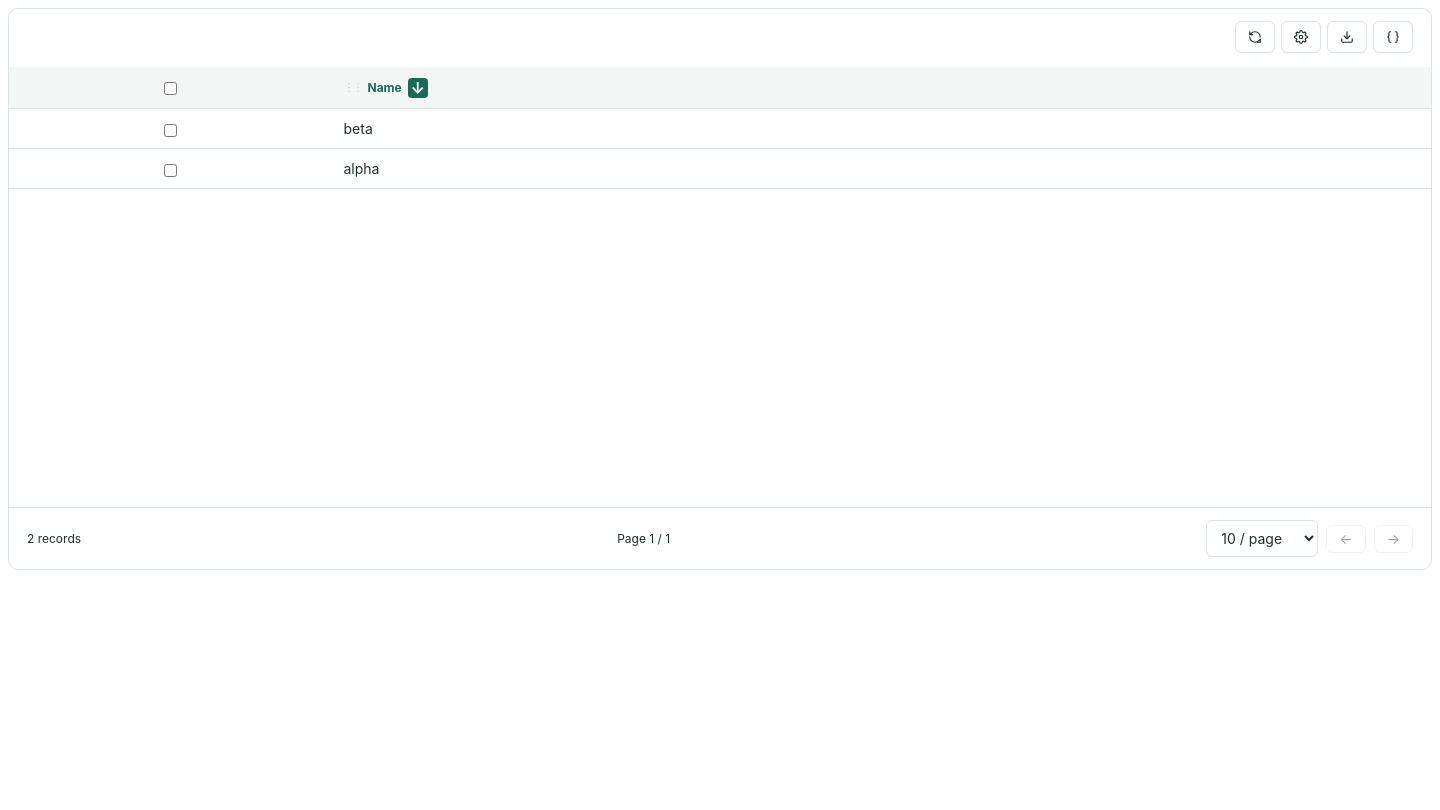
it: controlled settings still save explicitly created named presets
Click the button "Settings" at [1301, 37], box [1281,21,1321,53]
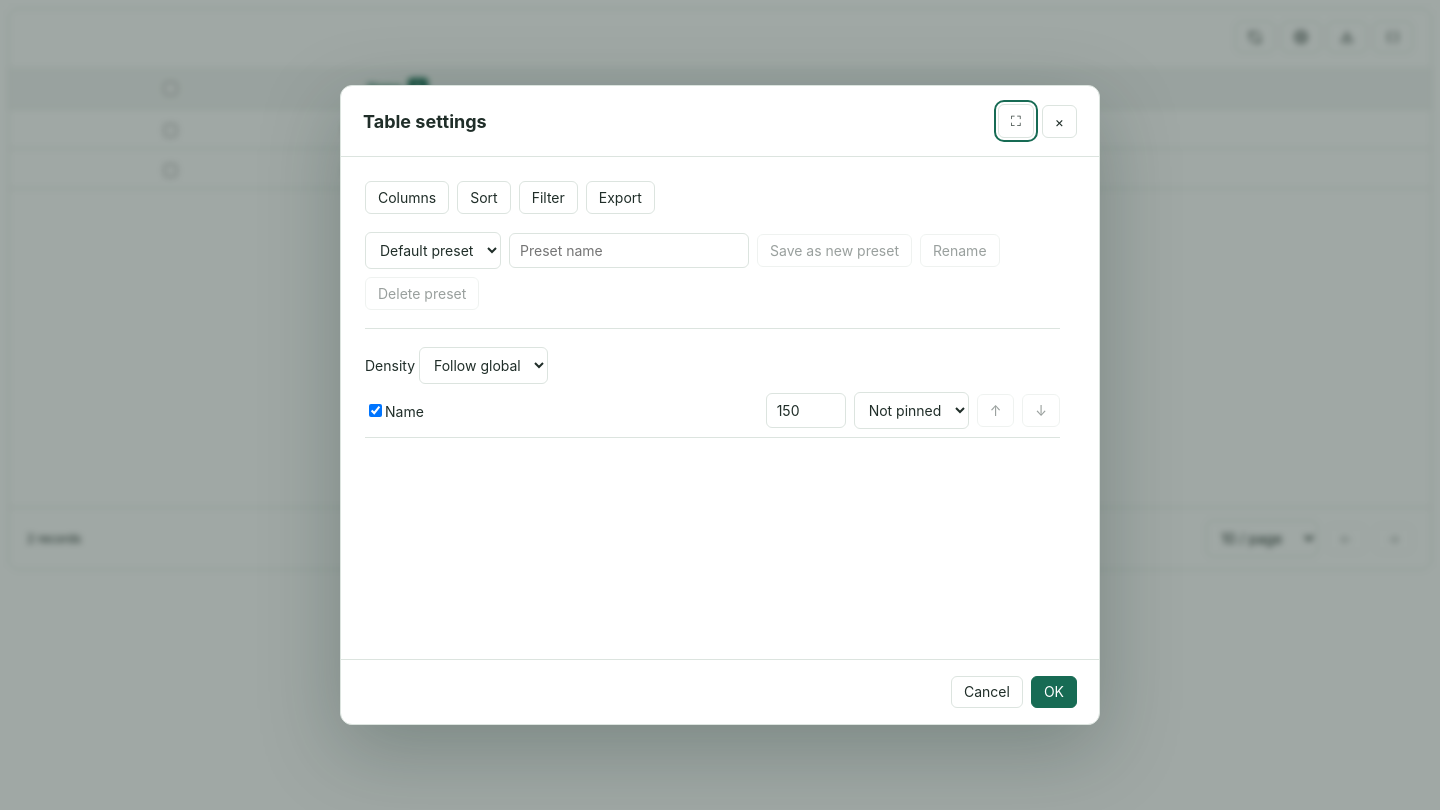
Click the button "Sort" at [484, 198], box [457,181,511,214]
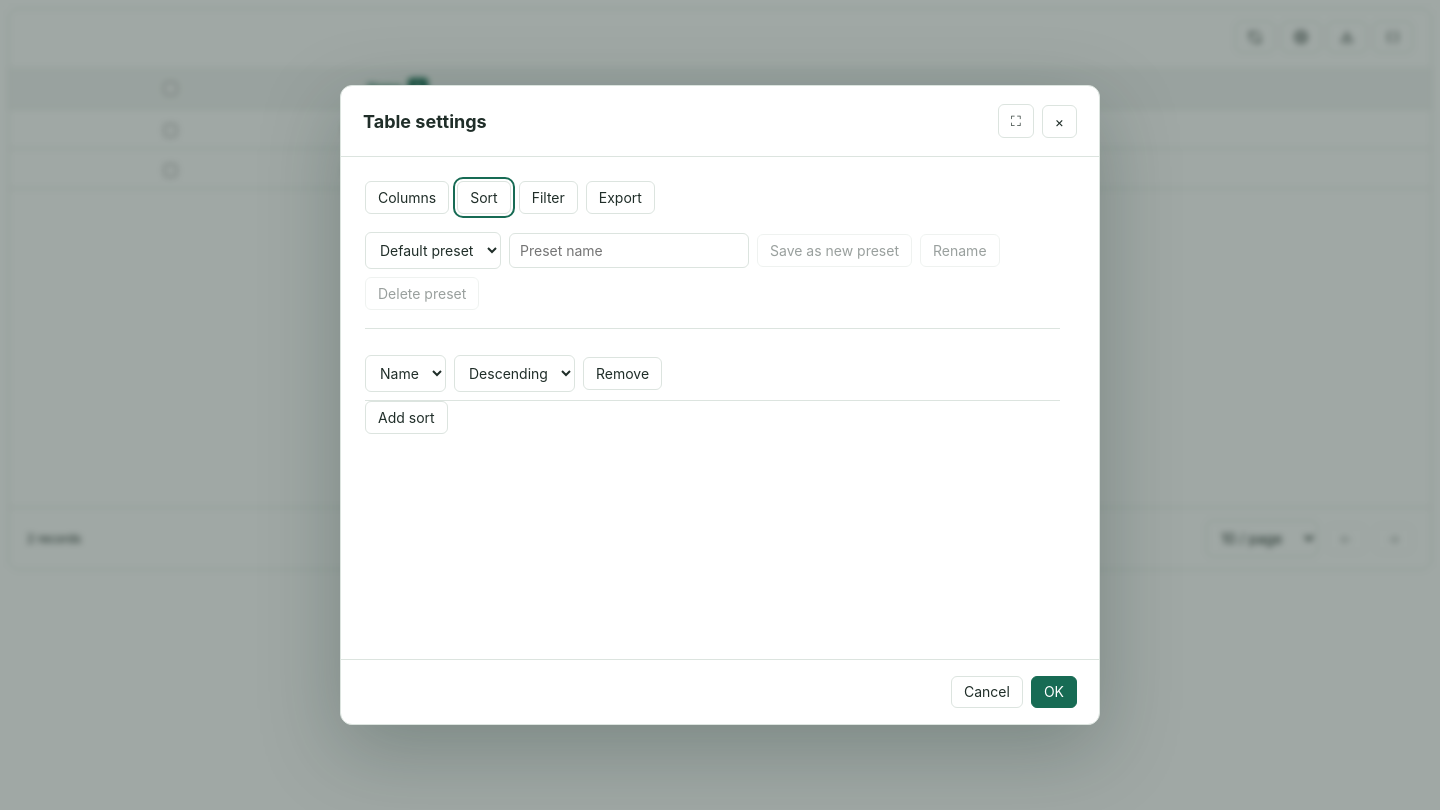
Type "Review preset" into the field labelled "Preset name" at [629, 250], box [509,233,749,268]
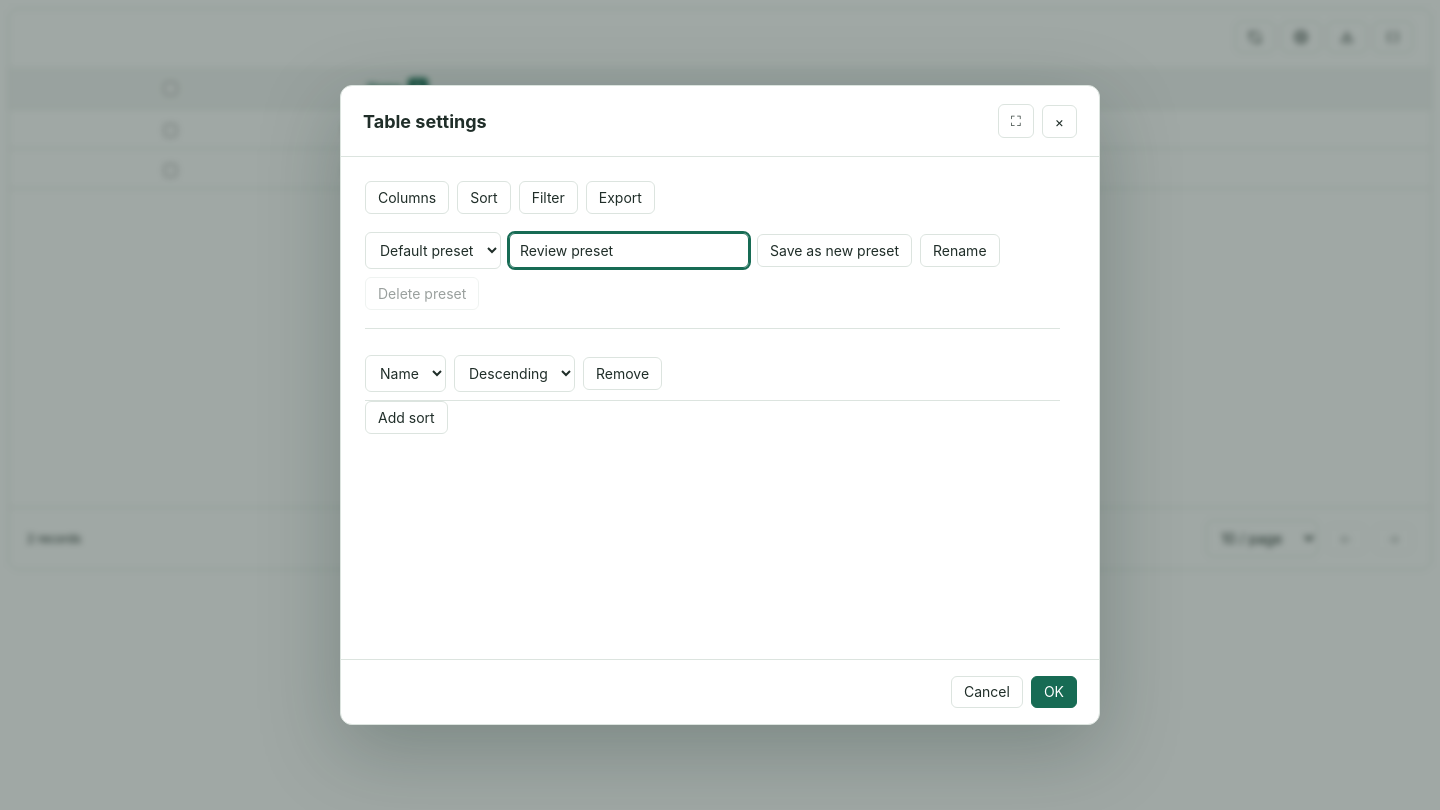
Click the button "Save as new preset" at [834, 250], box [757,234,912,267]
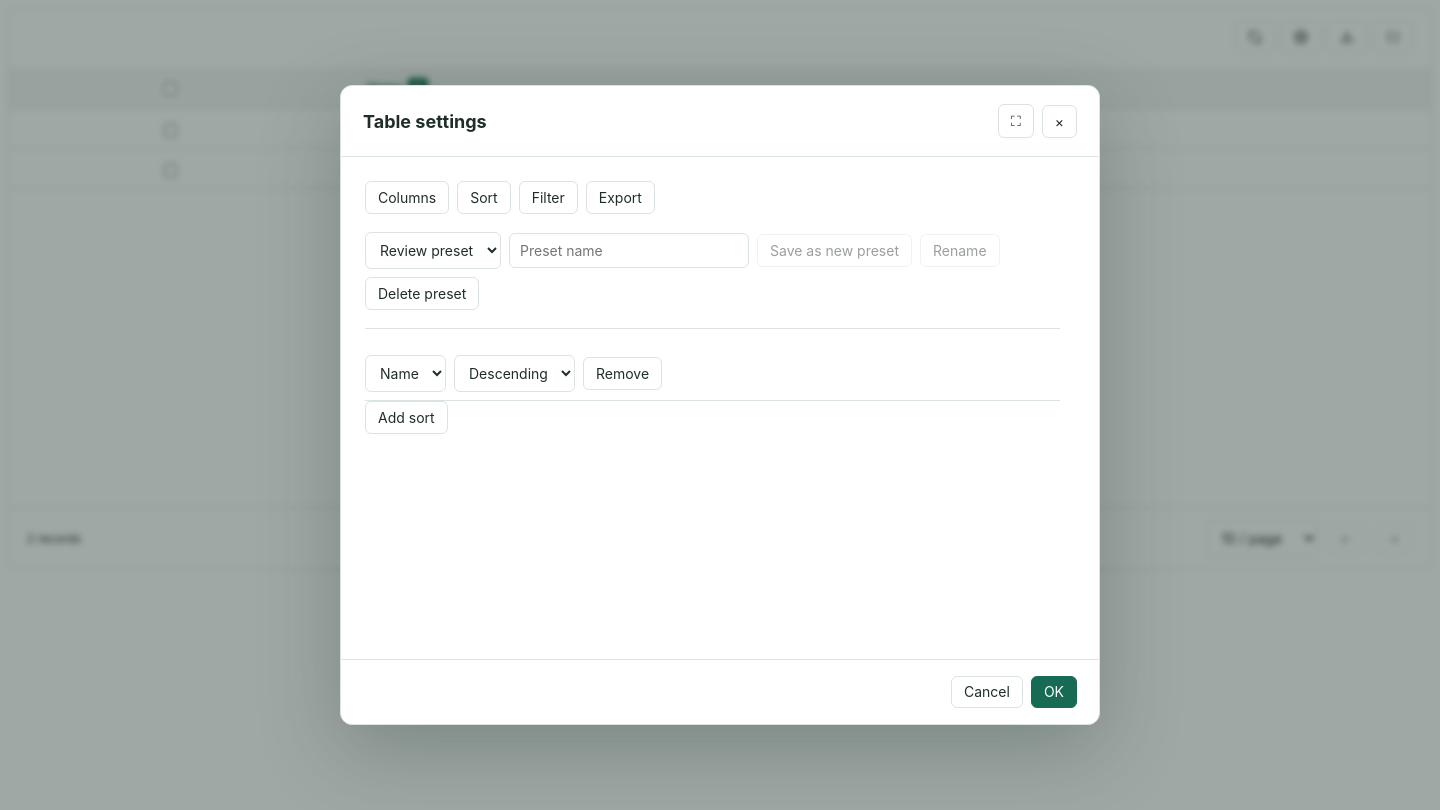
Click the button with test id "rac-ok" at [1054, 692], box [1031,676,1077,708]
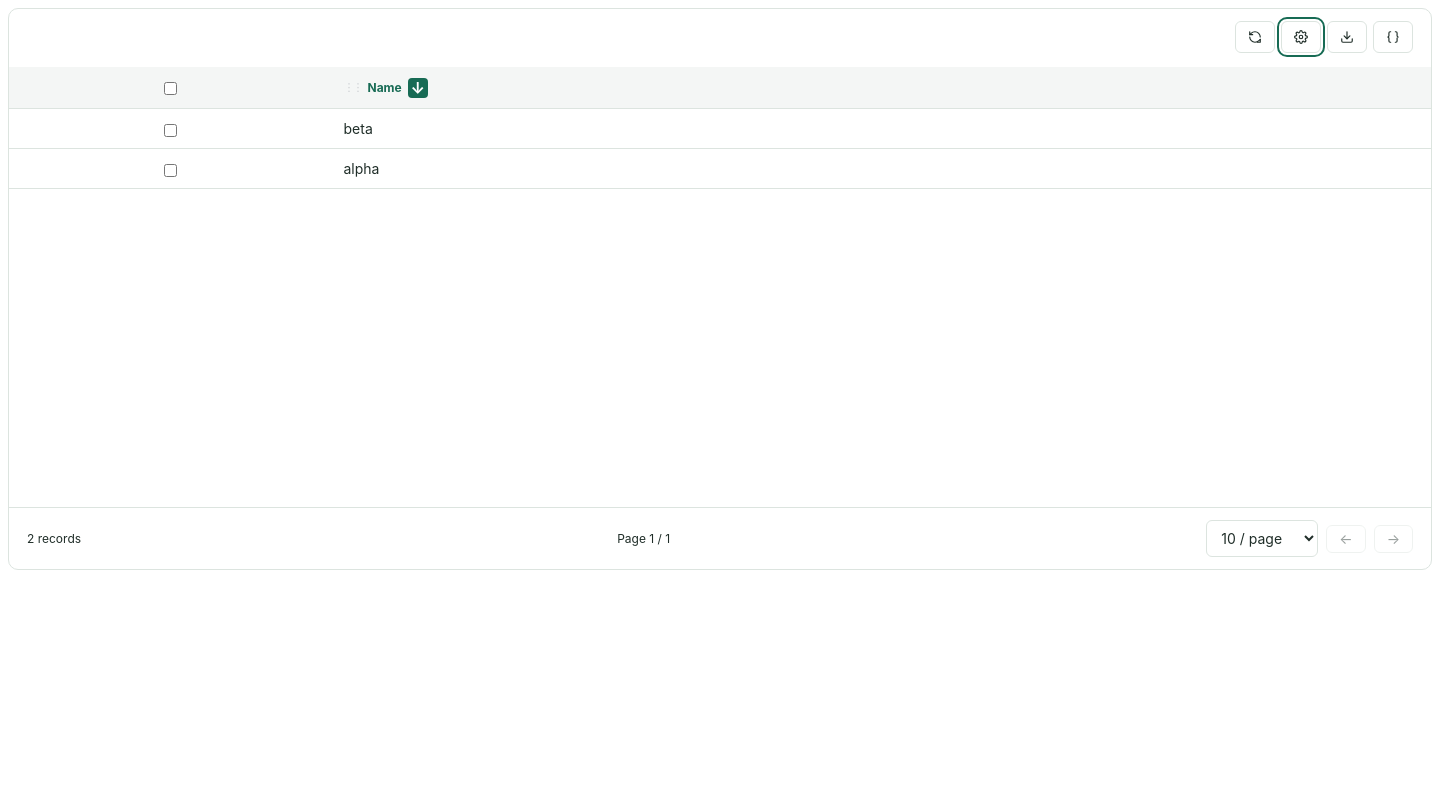
Now the dialog is gone
